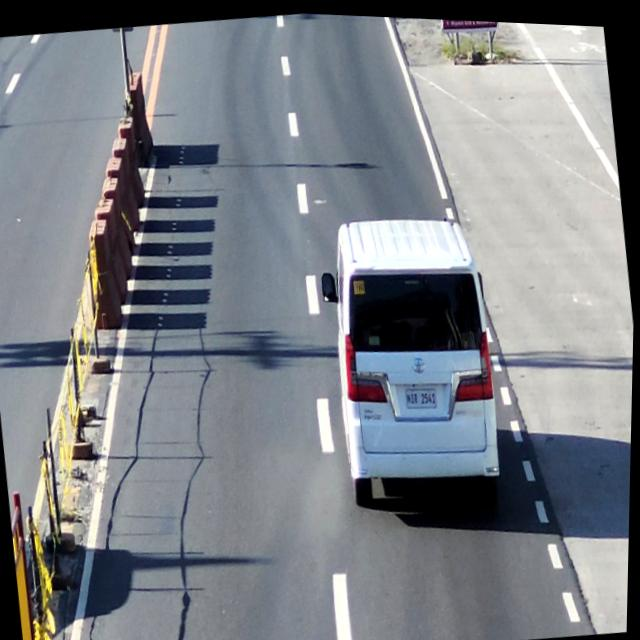Car: (323, 201, 508, 502)
License-Plate: (400, 374, 444, 415)
